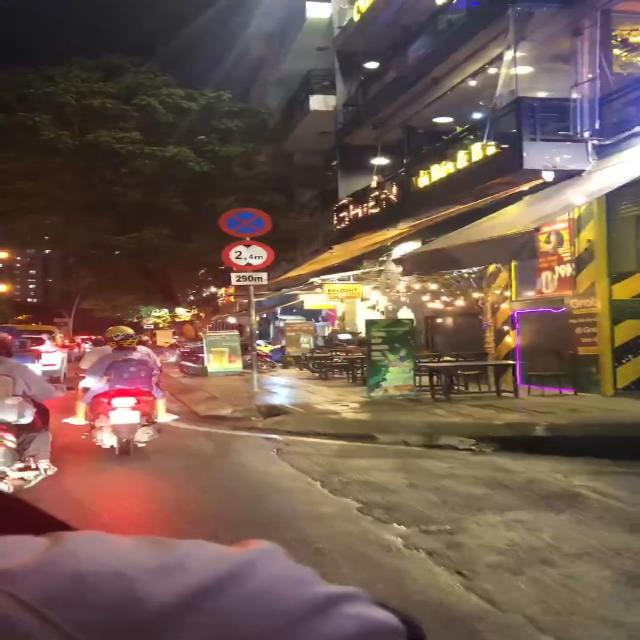Bien bao cam dung xe va do xe: (216, 204, 278, 238)
Bien bao han che chieu cao: (220, 238, 275, 271)
